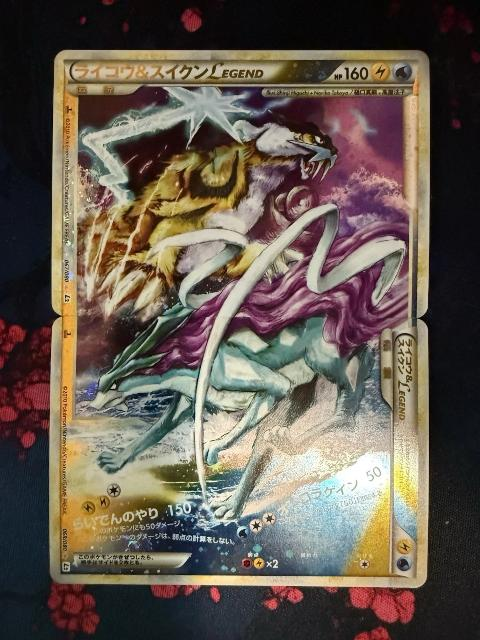Card: (46, 314, 433, 590), (49, 45, 433, 319)
Name: (70, 60, 267, 86), (391, 333, 419, 429)
